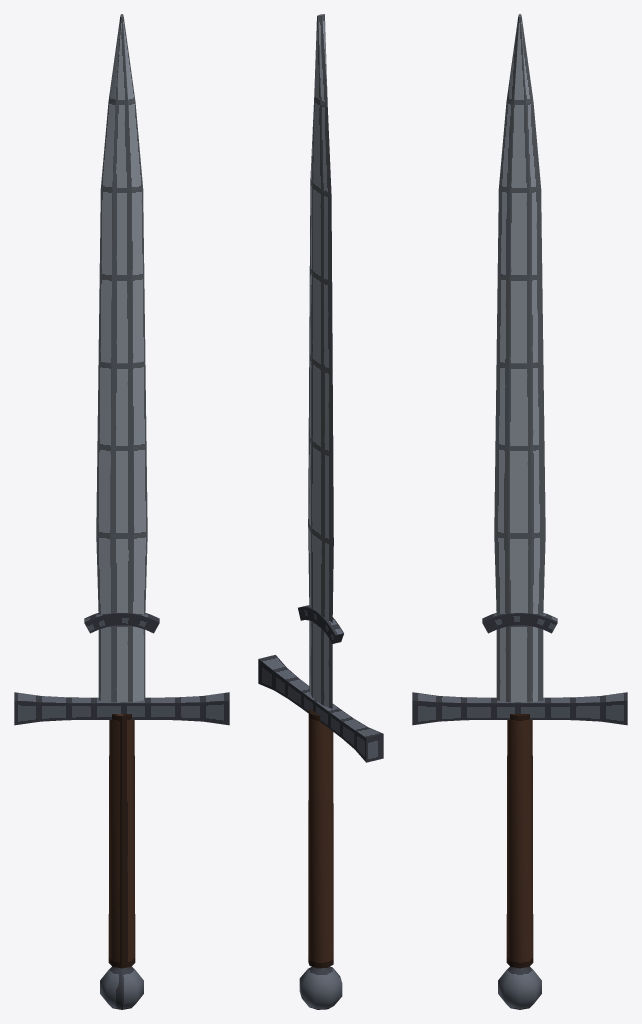
The model's file is greatsword.glb.
3 renders of one model, left to right at view 1: azimuth 90°, elevation 25°; view 2: azimuth 210°, elevation 25°; view 3: azimuth 270°, elevation 25°, orthographic.
Visible parts, largest first — view 1: greatsword; view 2: greatsword; view 3: greatsword.
Boxes of the visible parts, x1,y1,x2,y2 form: greatsword: [14, 14, 229, 1009]; greatsword: [258, 14, 383, 1009]; greatsword: [412, 14, 627, 1009].
Size of the model in its own units: 0.0533 by 1.32 by 0.26.
Materials: 1 (1 with a texture image).
